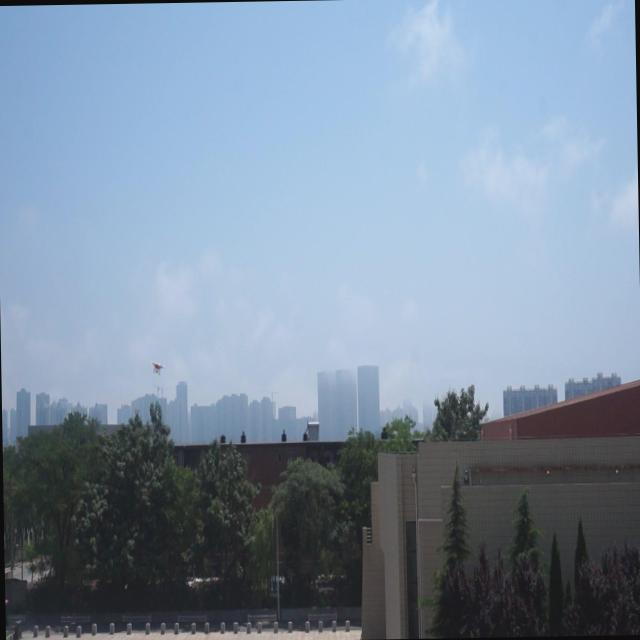drone: (150, 358, 166, 376)
